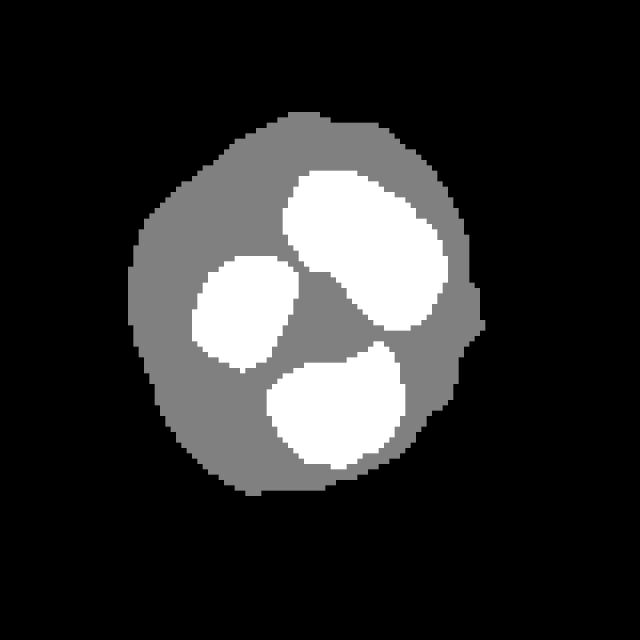WBC: (96, 101, 496, 502)
